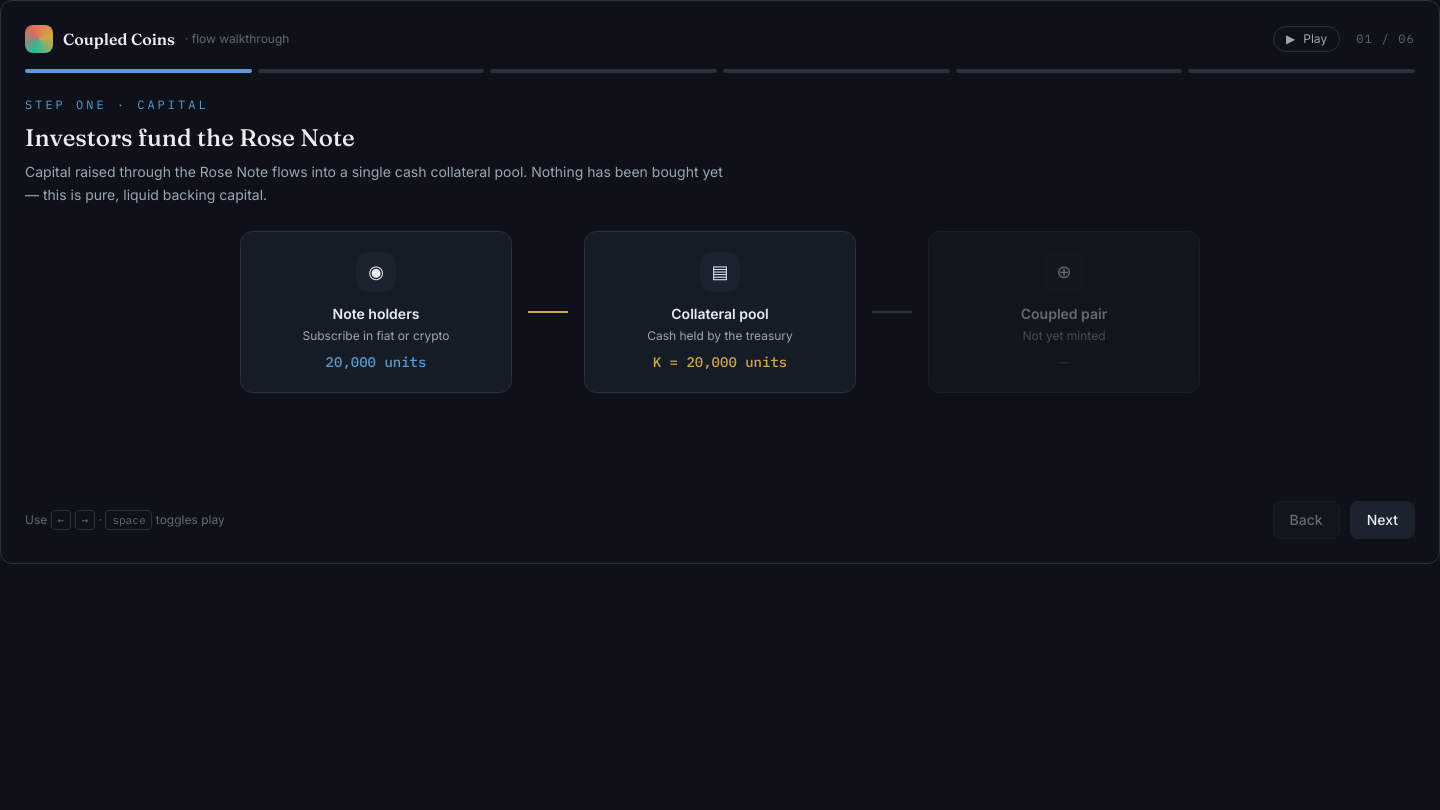
Test case: CoupledCoinsWalkthrough › seeds the scenes from a live pair (no illustrative label) and advances to rebalancing
Click the button named "Scene 6:": (1302, 71) 1188,69 -> 1415,73
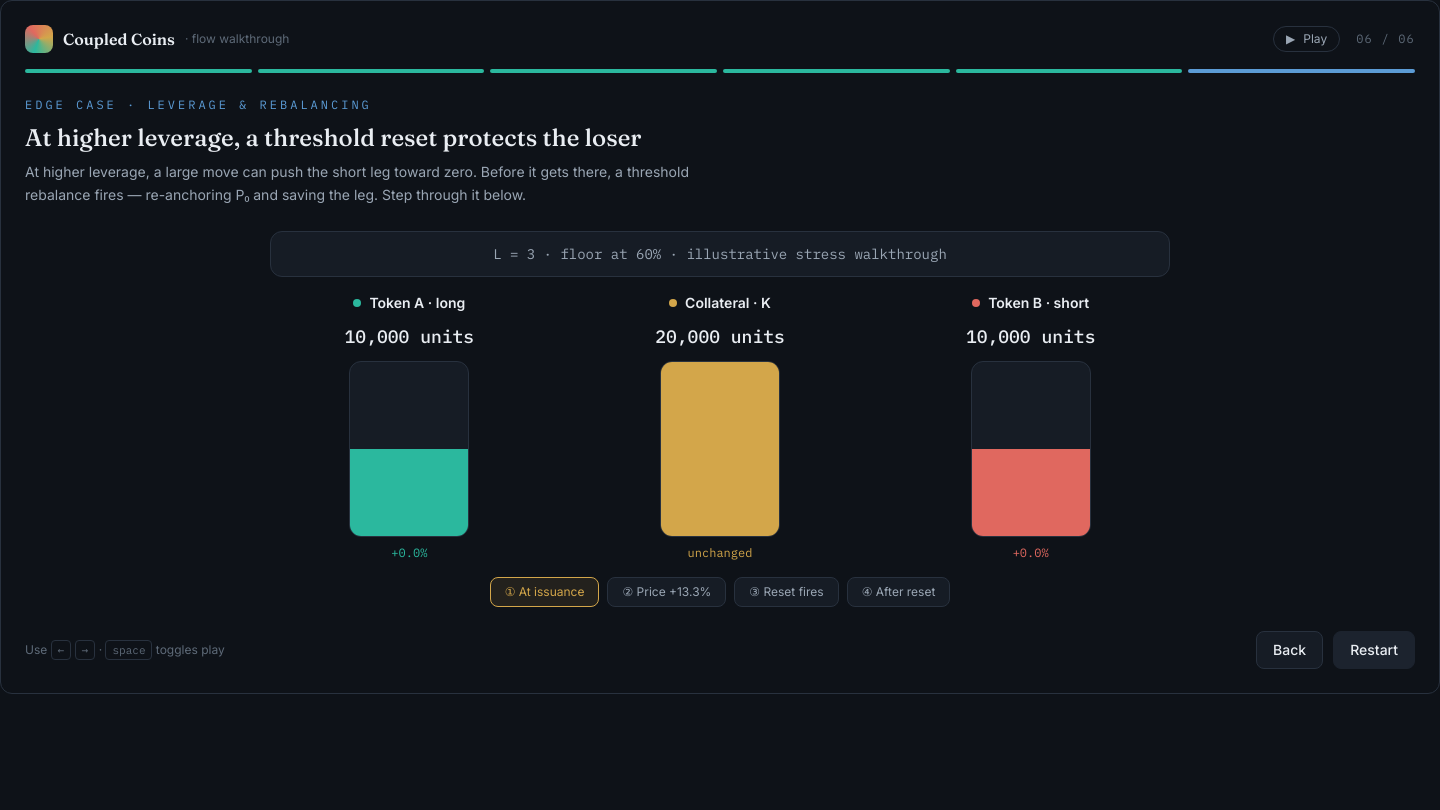
Result: the text "06 / 06" is shown at 1356,31 -> 1415,47
Result: the button "③ Reset fires" is shown at 734,576 -> 839,606
